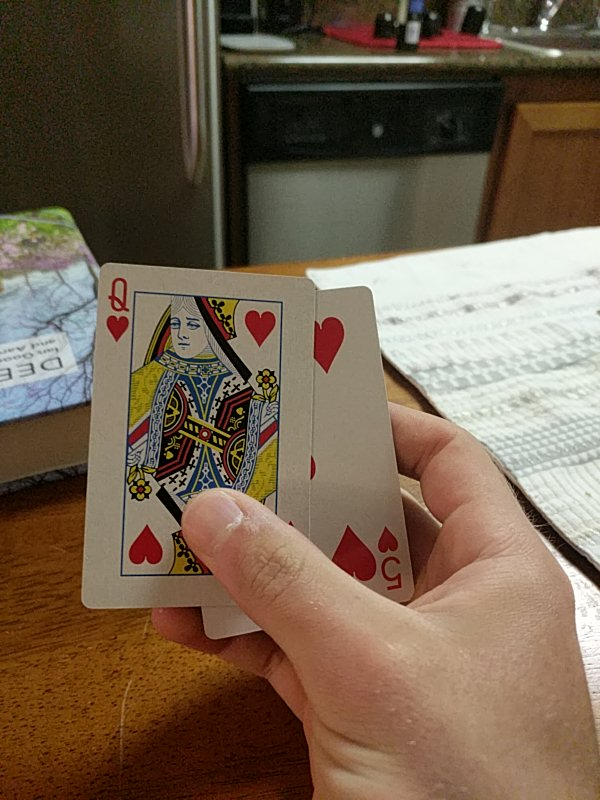Hearts: (79, 263, 316, 611), (205, 286, 410, 638)
